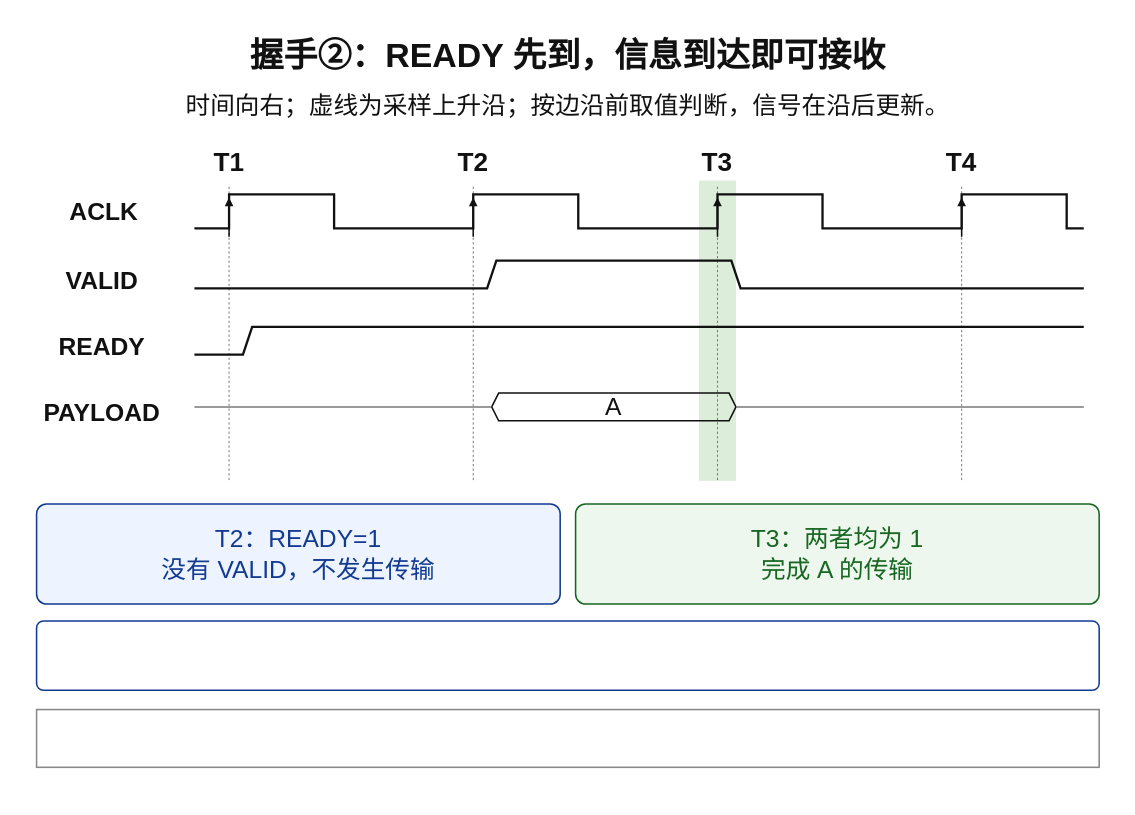
Some shapes in this 1135 by 815 pixel diagram are drawn without their labels. The box of each missing label's shape, as (x1, y1, x2, y2) in pixels:
READY 表示接收能力；只有 READY=1 不能构成一次传输。: (35, 620, 1100, 691)
发送方驱动 VALID 与信息；接收方驱动 READY；复位已结束。: (35, 708, 1100, 768)
